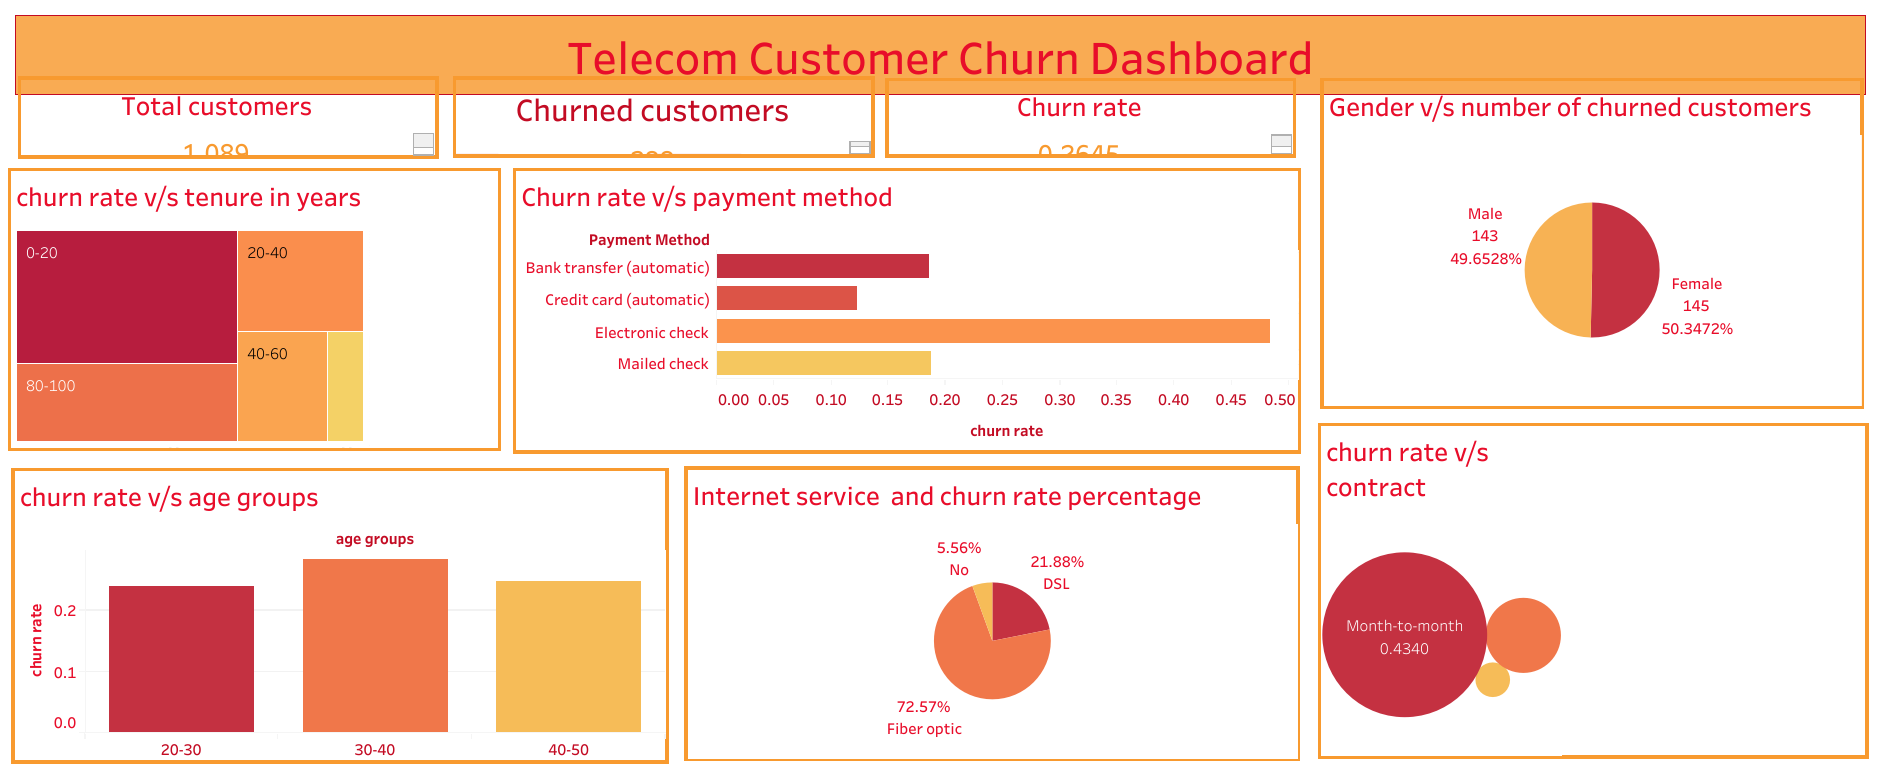

Layout of this report page (visuals, bound fields, positions):
{"tool":"tableau","page":{"name":"Dashboard 1","canvas":[1000,1000],"units":"permille","ordinal":0},"visuals":[{"type":"title","box":[4.8,9.4,990.3,84.6]},{"type":"worksheet","title":"Sheet 7","mark":"Automatic","box":[240.8,98.7,224.5,106.9]},{"type":"worksheet","title":"Sheet 8","mark":"Automatic","box":[9.1,99.9,223.9,106.9]},{"type":"worksheet","title":"Sheet 9","mark":"Automatic","box":[470.7,101.1,218.5,103.4]},{"type":"worksheet","title":"Sheet 4","mark":"Pie","box":[701.9,101.1,289.1,431.3]},{"type":"worksheet","title":"Sheet 6","mark":"Automatic","box":[4.2,217.4,261.9,369]},{"type":"worksheet","title":"Sheet 5","mark":"Automatic","rows":["PaymentMethod"],"cols":["Calculation_638948242167939077"],"box":[272.2,217.4,419.4,372.5]},{"type":"worksheet","title":"Sheet 3","mark":"Circle","box":[700.7,549.9,292.7,437.1]},{"type":"worksheet","title":"Sheet 2","mark":"Pie","box":[363.3,606.4,327.7,384.2]},{"type":"worksheet","title":"Sheet 1","mark":"Automatic","rows":["Calculation_638948242167939077"],"cols":["Calculation_638948242169245702"],"box":[6,607.5,349.4,385.4]}]}

Visuals, with their boxes on the dashboard's canvas, which has no fixed pixel size, in thousandths of its width and height (x1, y1, x2, y2). These are canvas units, not pixel positions in the 1880x768 screenshot, which may show the page scaled, cropped or inside an application window:
title: bbox=[5, 9, 995, 94]
"Sheet 7" worksheet: bbox=[241, 99, 465, 206]
"Sheet 8" worksheet: bbox=[9, 100, 233, 207]
"Sheet 9" worksheet: bbox=[471, 101, 689, 204]
"Sheet 4" worksheet (Pie marks): bbox=[702, 101, 991, 532]
"Sheet 6" worksheet: bbox=[4, 217, 266, 586]
"Sheet 5" worksheet: bbox=[272, 217, 692, 590]
"Sheet 3" worksheet (Circle marks): bbox=[701, 550, 993, 987]
"Sheet 2" worksheet (Pie marks): bbox=[363, 606, 691, 991]
"Sheet 1" worksheet: bbox=[6, 608, 355, 993]
